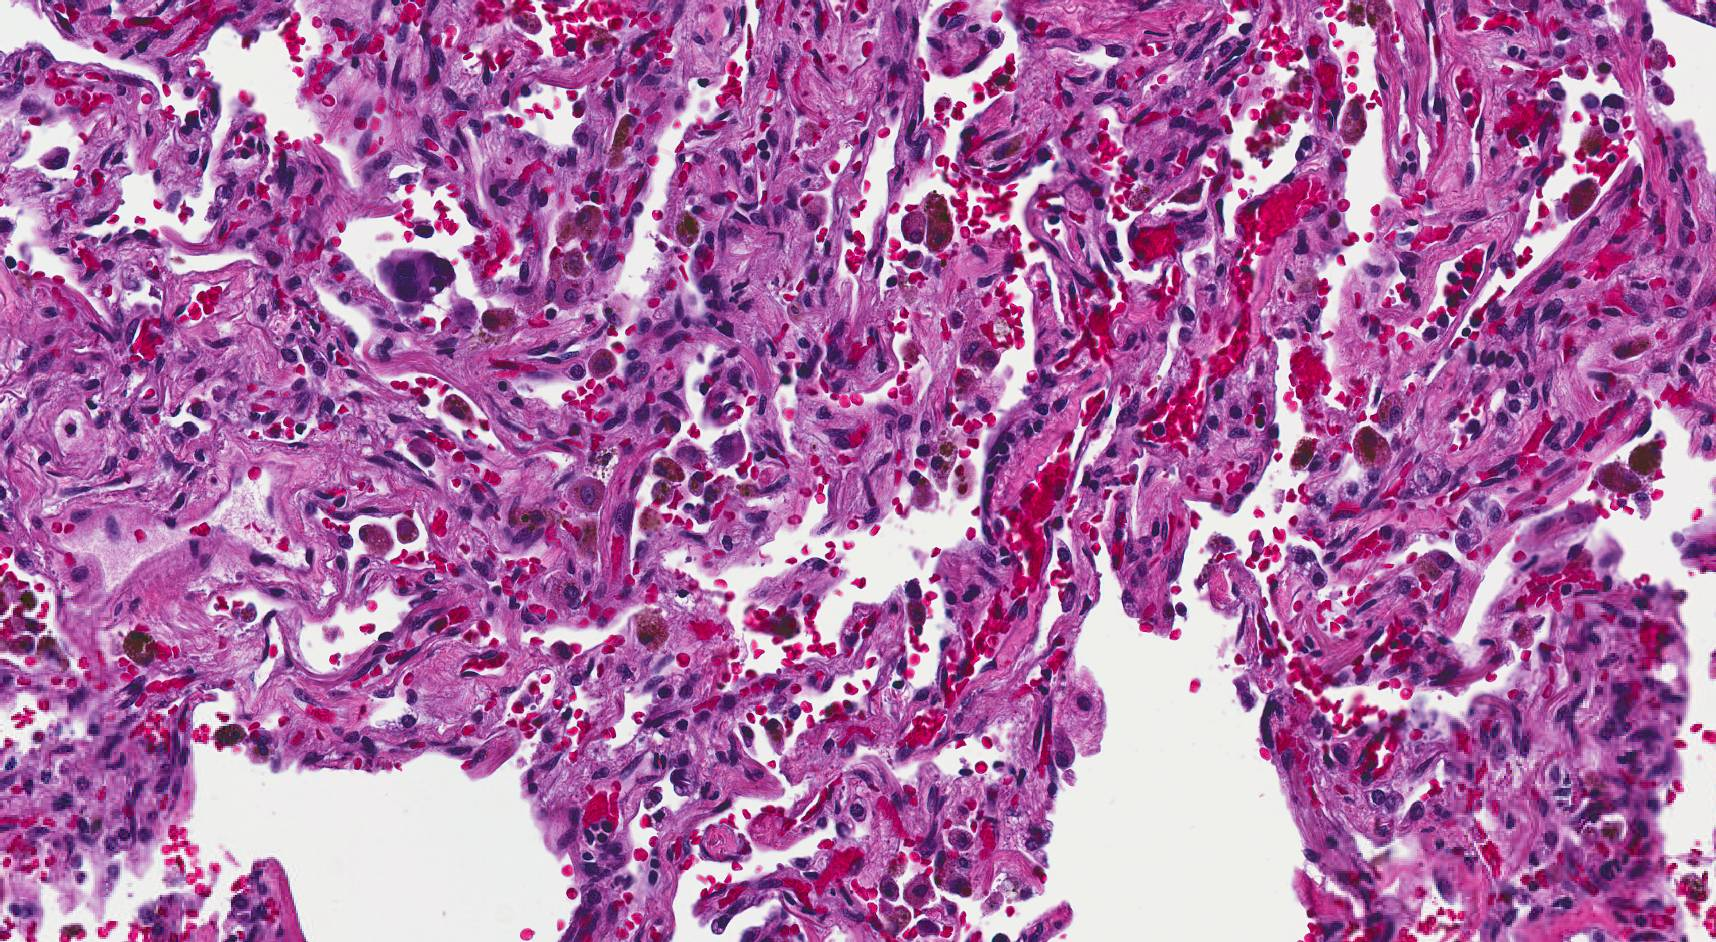stas: (374, 246, 456, 303)
